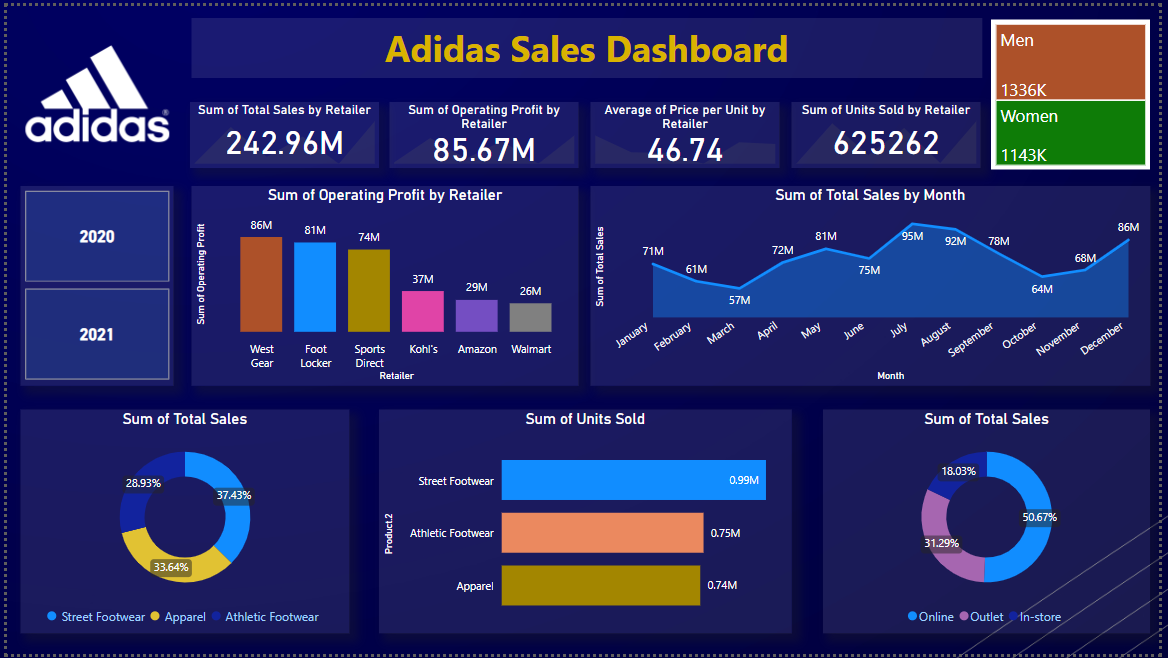

The dashboard page shown, as its layout file describes it:
{"tool":"powerbi","page":{"name":"Page 1","canvas":[1280,720],"ordinal":0},"visuals":[{"type":"columnChart","fields":{"Category":["Data Sales Adidas.Retailer"],"Y":["Sum(Data Sales Adidas.Operating Profit)"]},"box":[15,200,610,203.3],"z":0},{"type":"columnChart","fields":{"Category":["Data Sales Adidas.Invoice Date.Variation.Date Hierarchy.Year","Data Sales Adidas.Invoice Date.Variation.Date Hierarchy.Quarter","Data Sales Adidas.Invoice Date.Variation.Date Hierarchy.Month","Data Sales Adidas.Invoice Date.Variation.Date Hierarchy.Day"],"Y":["Sum(Data Sales Adidas.Total Sales)"]},"box":[655,200,615,203.3],"z":1000},{"type":"donutChart","title":"Sum of Total Sales ","fields":{"Category":["Data Sales Adidas.Product.2"],"Y":["Sum(Data Sales Adidas.Total Sales)"]},"box":[15,448.3,365,203.3],"z":2000},{"type":"barChart","title":"Sum of Units Sold ","fields":{"Category":["Data Sales Adidas.Product.2"],"Y":["Sum(Data Sales Adidas.Units Sold)"]},"box":[413.3,448.3,458.3,203.3],"z":3000},{"type":"kpi","fields":{"Indicator":["Sum(Data Sales Adidas.Total Sales)"],"TrendLine":["Data Sales Adidas.Retailer"]},"box":[203.9,107.2,210,73.3],"z":4000},{"type":"kpi","fields":{"Indicator":["Sum(Data Sales Adidas.Operating Profit)"],"TrendLine":["Data Sales Adidas.Retailer"]},"box":[425.5,107.2,210,73.3],"z":5000},{"type":"kpi","fields":{"TrendLine":["Data Sales Adidas.Retailer"],"Indicator":["Avg(Data Sales Adidas.Price per Unit)"]},"box":[648.9,107.2,210,73.3],"z":6000},{"type":"kpi","fields":{"Indicator":["Sum(Data Sales Adidas.Units Sold)"],"TrendLine":["Data Sales Adidas.Retailer"]},"box":[872.2,107.2,210,73.3],"z":7000},{"type":"textbox","title":"Adidas Sales Dashboard","box":[204.4,13.3,878.3,66.7],"z":8000},{"type":"treemap","fields":{"Group":["Data Sales Adidas.Product.1"],"Values":["Sum(Data Sales Adidas.Units Sold)"]},"box":[1093.3,15,176.7,166.7],"z":9000},{"type":"image","box":[15,13.3,170,168.3],"z":10000},{"type":"donutChart","title":"Sum of Total Sales ","fields":{"Category":["Data Sales Adidas.Sales Method"],"Y":["CountNonNull(Data Sales Adidas.Retailer)"]},"box":[906.7,448.3,363.3,203.3],"z":11000}]}

Visuals, with their boxes in screenshot pixels (x1, y1, x2, y2), scaled from the page's 1280x720 canvas onto the 1168x658 screenshot:
columnChart - Data Sales Adidas.Retailer x Sum(Data Sales Adidas.Operating Profit): box(14, 183, 570, 369)
columnChart - Data Sales Adidas.Invoice Date.Variation.Date Hierarchy.Year x Data Sales Adidas.Invoice Date.Variation.Date Hierarchy.Quarter: box(598, 183, 1159, 369)
"Sum of Total Sales " donutChart: box(14, 410, 347, 595)
"Sum of Units Sold " barChart: box(377, 410, 795, 595)
kpi - Sum(Data Sales Adidas.Total Sales) x Data Sales Adidas.Retailer: box(186, 98, 378, 165)
kpi - Sum(Data Sales Adidas.Operating Profit) x Data Sales Adidas.Retailer: box(388, 98, 580, 165)
kpi - Data Sales Adidas.Retailer x Avg(Data Sales Adidas.Price per Unit): box(592, 98, 784, 165)
kpi - Sum(Data Sales Adidas.Units Sold) x Data Sales Adidas.Retailer: box(796, 98, 988, 165)
"Adidas Sales Dashboard" textbox: box(187, 12, 988, 73)
treemap - Data Sales Adidas.Product.1 x Sum(Data Sales Adidas.Units Sold): box(998, 14, 1159, 166)
image: box(14, 12, 169, 166)
"Sum of Total Sales " donutChart: box(827, 410, 1159, 595)
